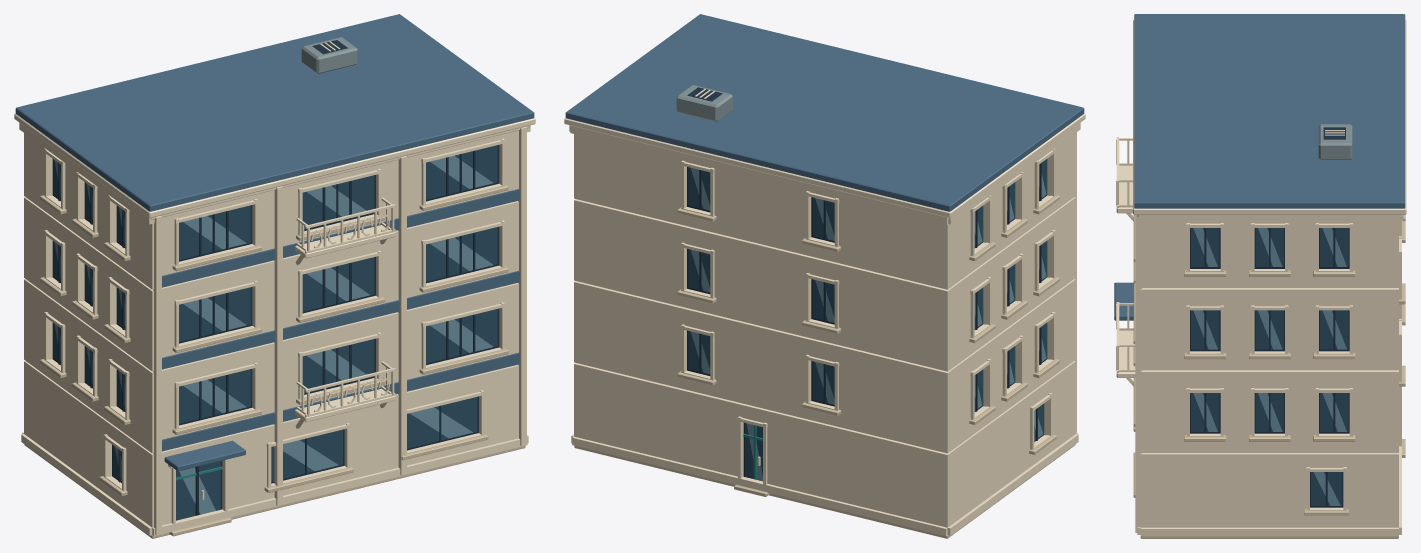
The model's file is wide_window_apartments.glb.
The picture shows the model from 3 angles, left to right: view 1: azimuth 30°, elevation 25°; view 2: azimuth 150°, elevation 25°; view 3: azimuth 270°, elevation 25°; orthographic projection.
Parts seen in each view (by area): view 1: WideWindowApartments_StaticMesh; view 2: WideWindowApartments_StaticMesh; view 3: WideWindowApartments_StaticMesh.
Part boxes in pixels (x1,y1,x2,y2): WideWindowApartments_StaticMesh: [14, 14, 535, 538]; WideWindowApartments_StaticMesh: [564, 14, 1085, 538]; WideWindowApartments_StaticMesh: [1114, 14, 1406, 538].
Size of the model in its own units: 15.32 by 13.46 by 9.95.
